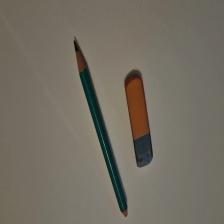eraser: (125, 77, 154, 170)
pencil: (75, 41, 129, 219)
